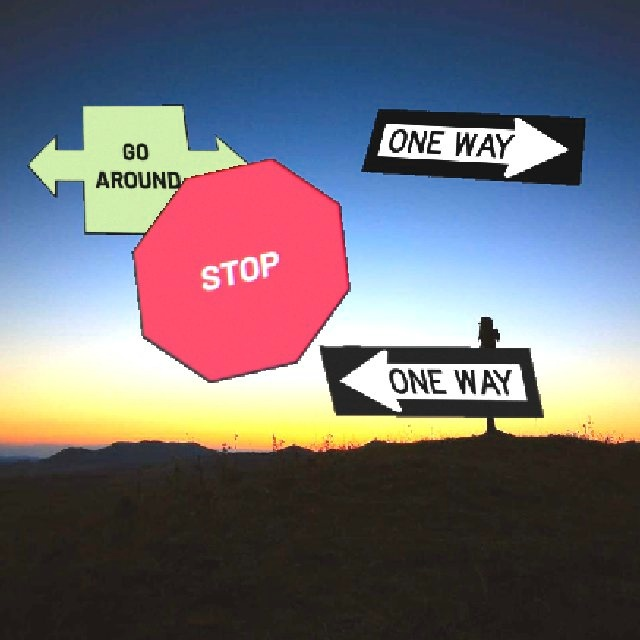GO_AROUND: (25, 103, 251, 235)
ONE_WAY_ left: (317, 344, 543, 417)
ONE_WAY_ right: (359, 107, 585, 185)
STOP: (130, 156, 349, 382)
